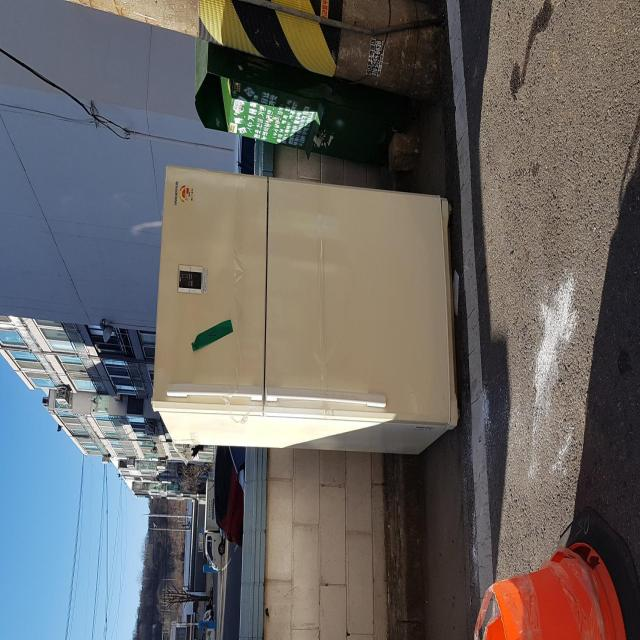refrigerator: (150, 166, 460, 457)
